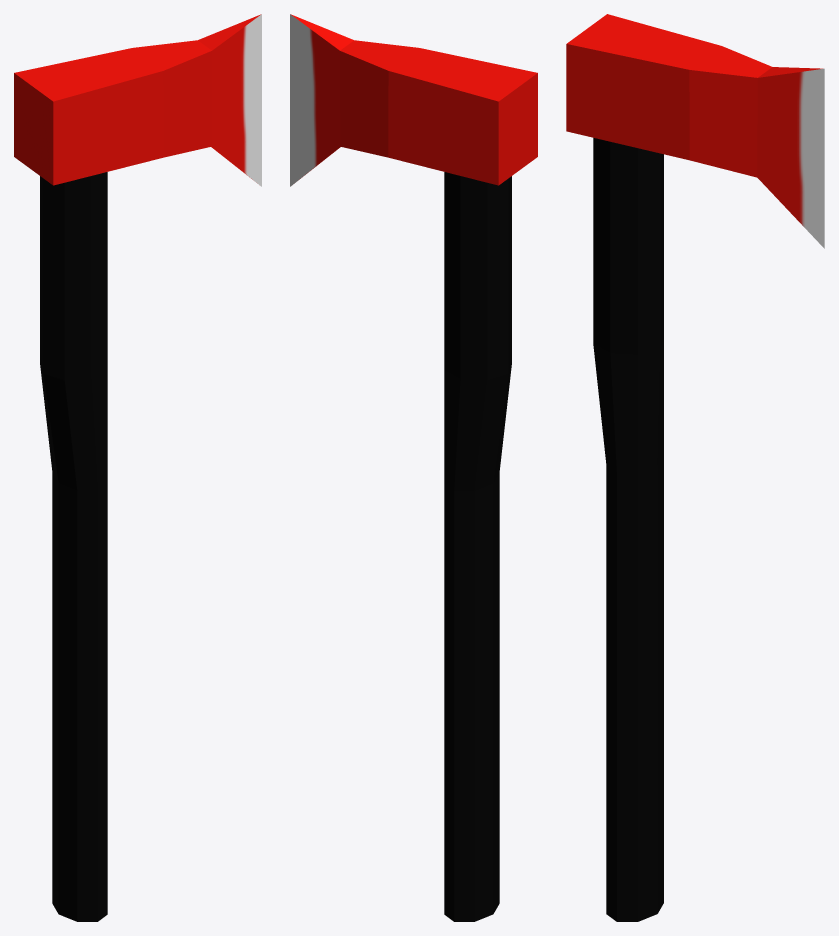
Rendered from Axe.fbx.
The picture shows the model from 3 angles, left to right: view 1: azimuth 30°, elevation 25°; view 2: azimuth 150°, elevation 25°; view 3: azimuth 330°, elevation 25°; orthographic projection. The views are drawn at different scales.
Visible parts, largest first — view 1: Plane.001; view 2: Plane.001; view 3: Plane.001.
Boxes of the visible parts, x1,y1,x2,y2 form: Plane.001: (14, 14, 261, 921); Plane.001: (290, 14, 537, 921); Plane.001: (566, 14, 824, 921).
Bounding box in the file's own units: 57.59 × 205 × 17.14.
2 materials, 1 textured.
